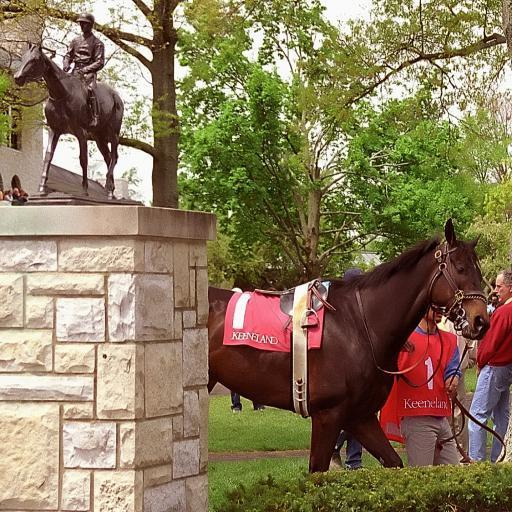horse: (210, 219, 490, 473), (14, 39, 124, 195)
